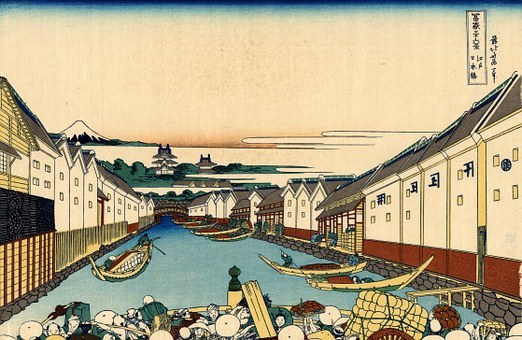boat: (251, 244, 370, 279), (298, 268, 432, 297), (89, 227, 157, 284)
